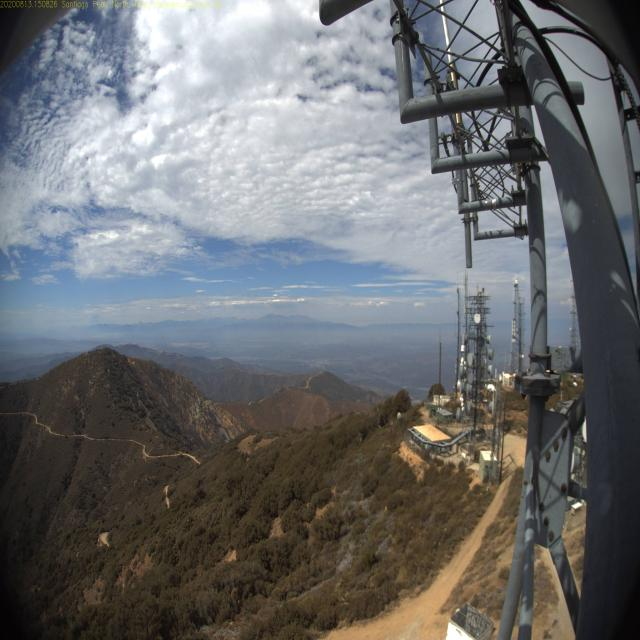smoke: (127, 317, 152, 358)
